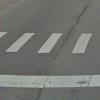Crosswalk: (1, 28, 100, 73)
